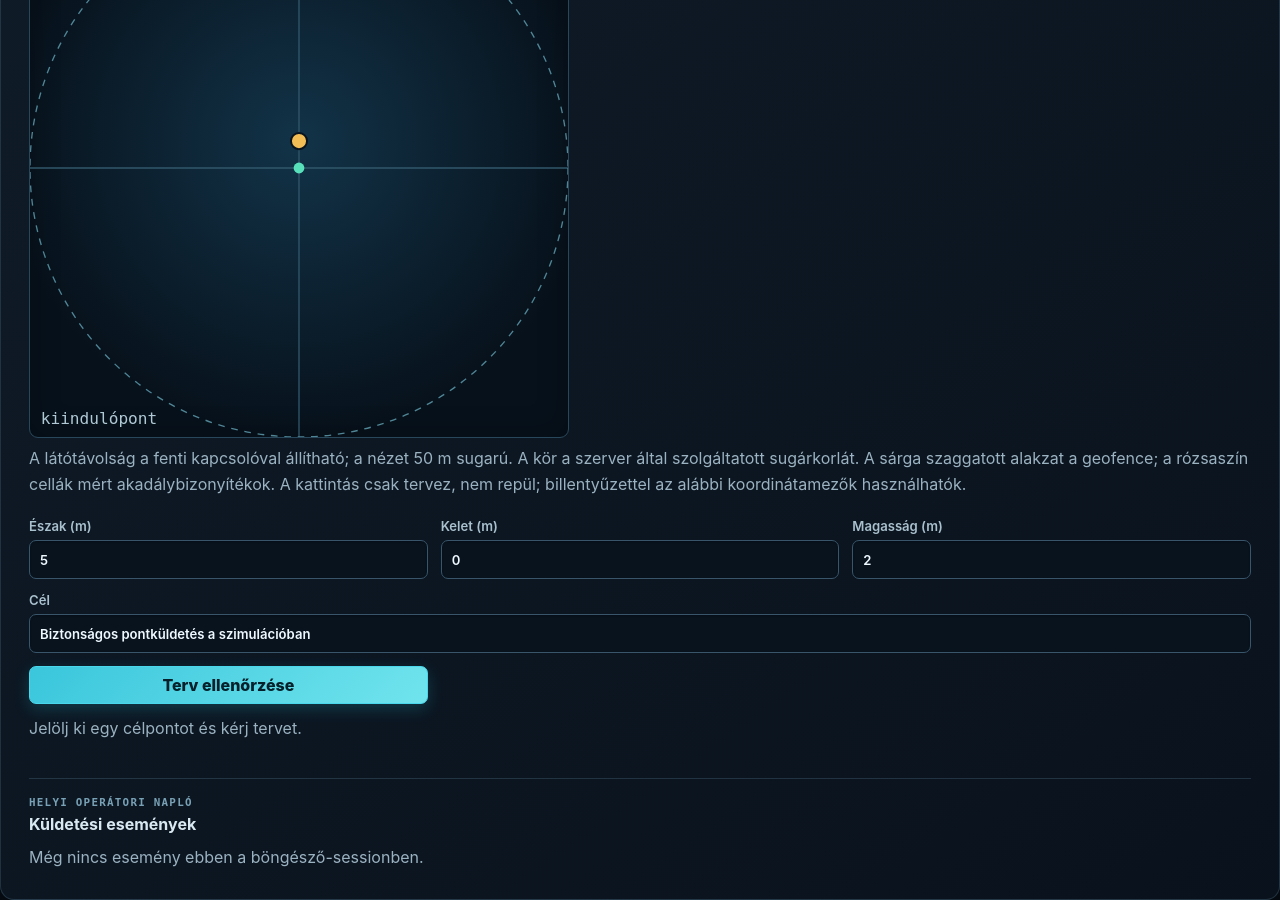
Test: MissionPage › keeps a rejected proposal out of the approval lifecycle
The width and height of the screenshot is (1280, 900).
(page scrolled)
Click the button "Terv ellenőrzése": (228, 685) [29,666,428,704]
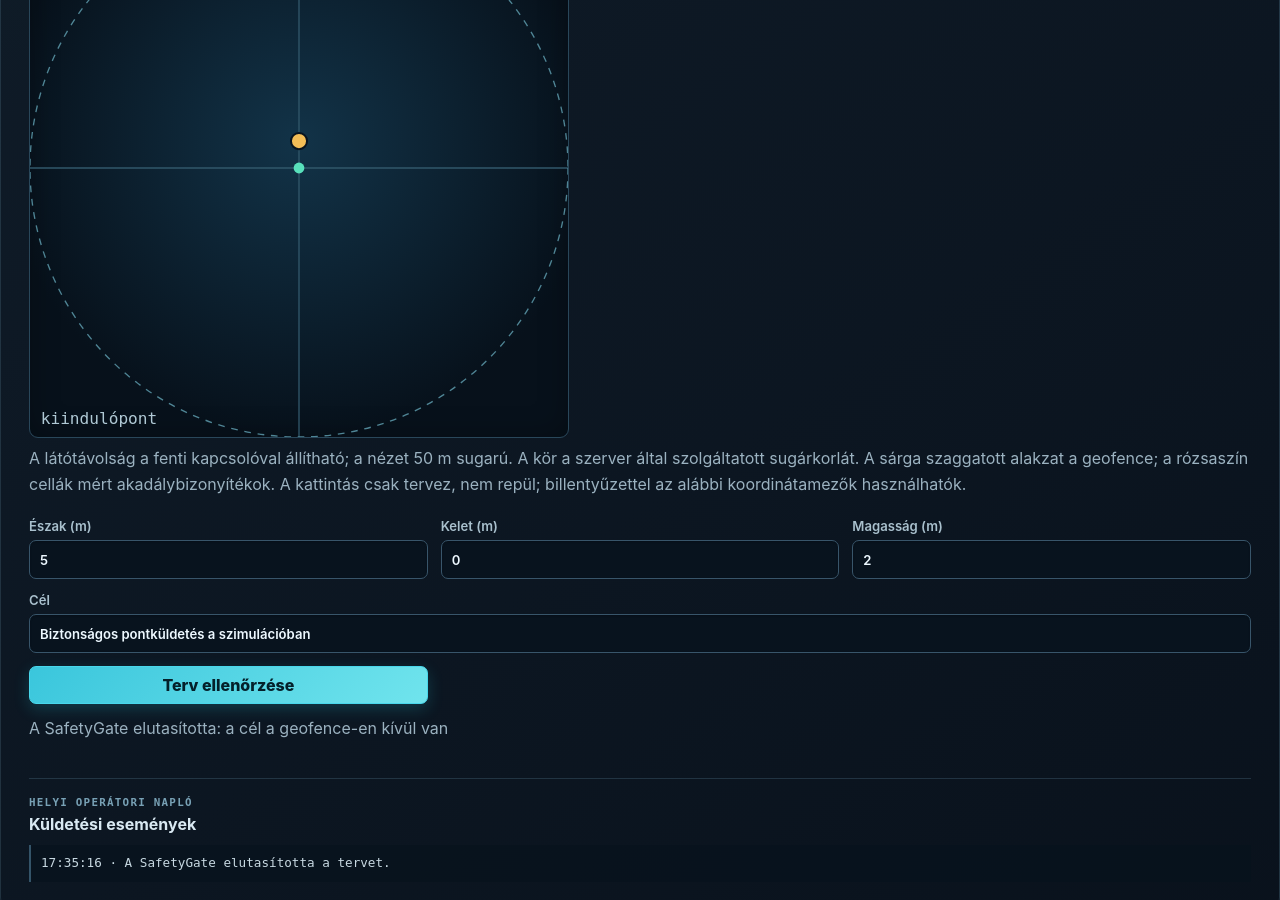
Expected: the text "A SafetyGate elutasította: a cél a geofence-en kívül van" is shown, [29,718,448,738]
